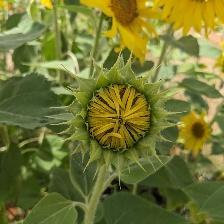sunflower: (46, 40, 190, 192), (88, 1, 158, 66), (158, 1, 223, 36), (182, 106, 212, 156)
